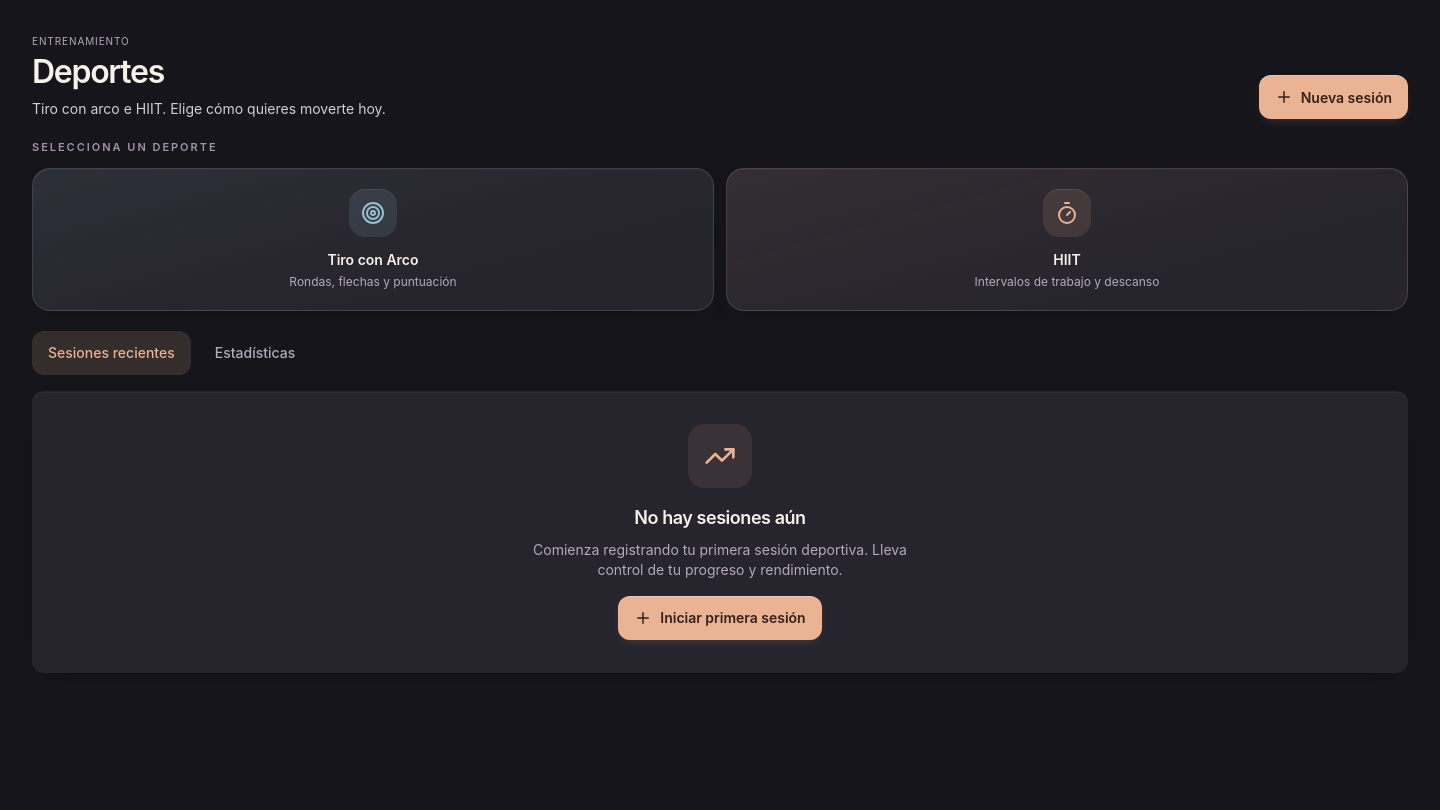
Scenario: SportsPage › opens the archery setup with an accessible dialog after choosing archery
Click the button with aria-label "Iniciar nueva sesión".
click(1333, 97)  # box x1=1259 y1=75 x2=1408 y2=119
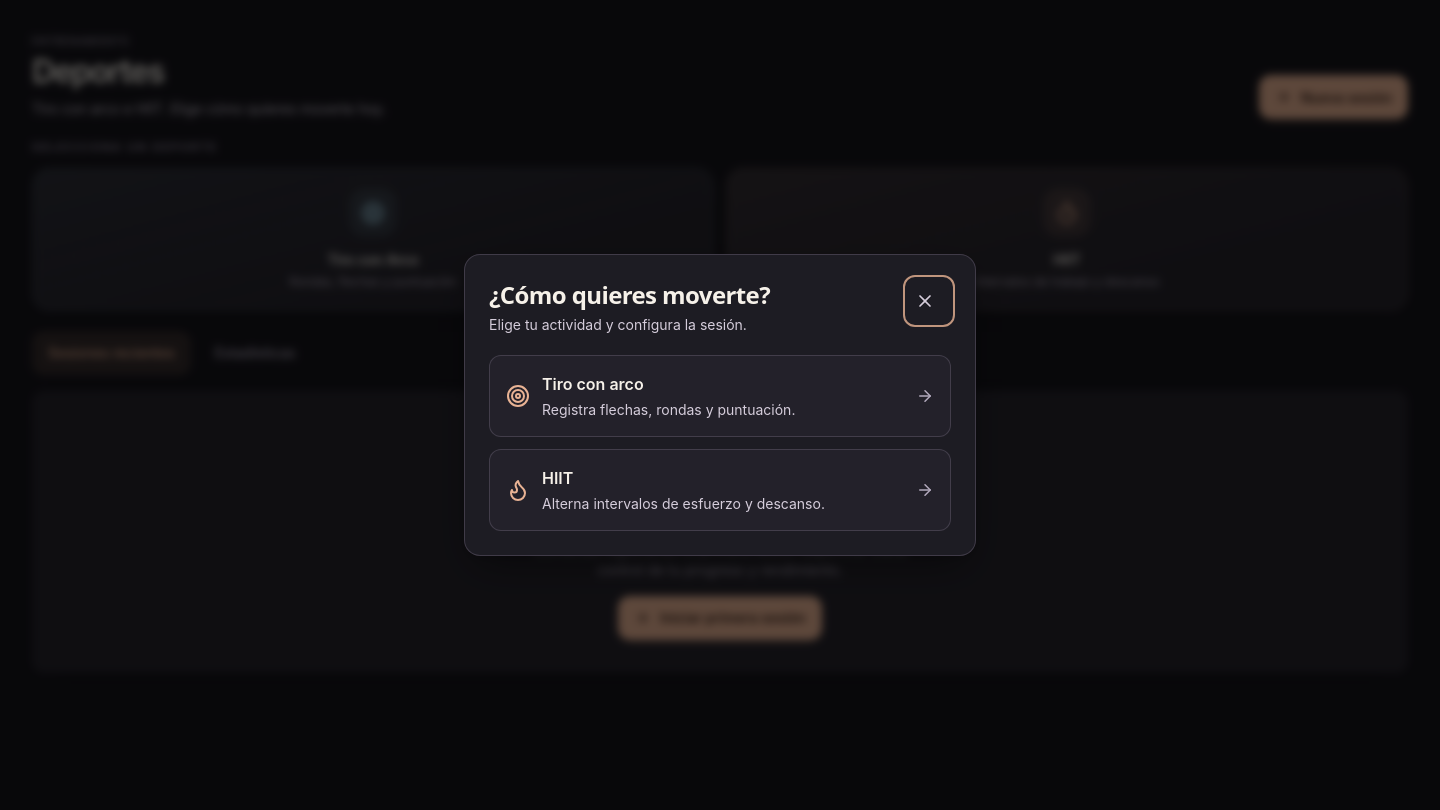
Click the button "Tiro con arco".
click(593, 384)  # box x1=489 y1=355 x2=951 y2=437
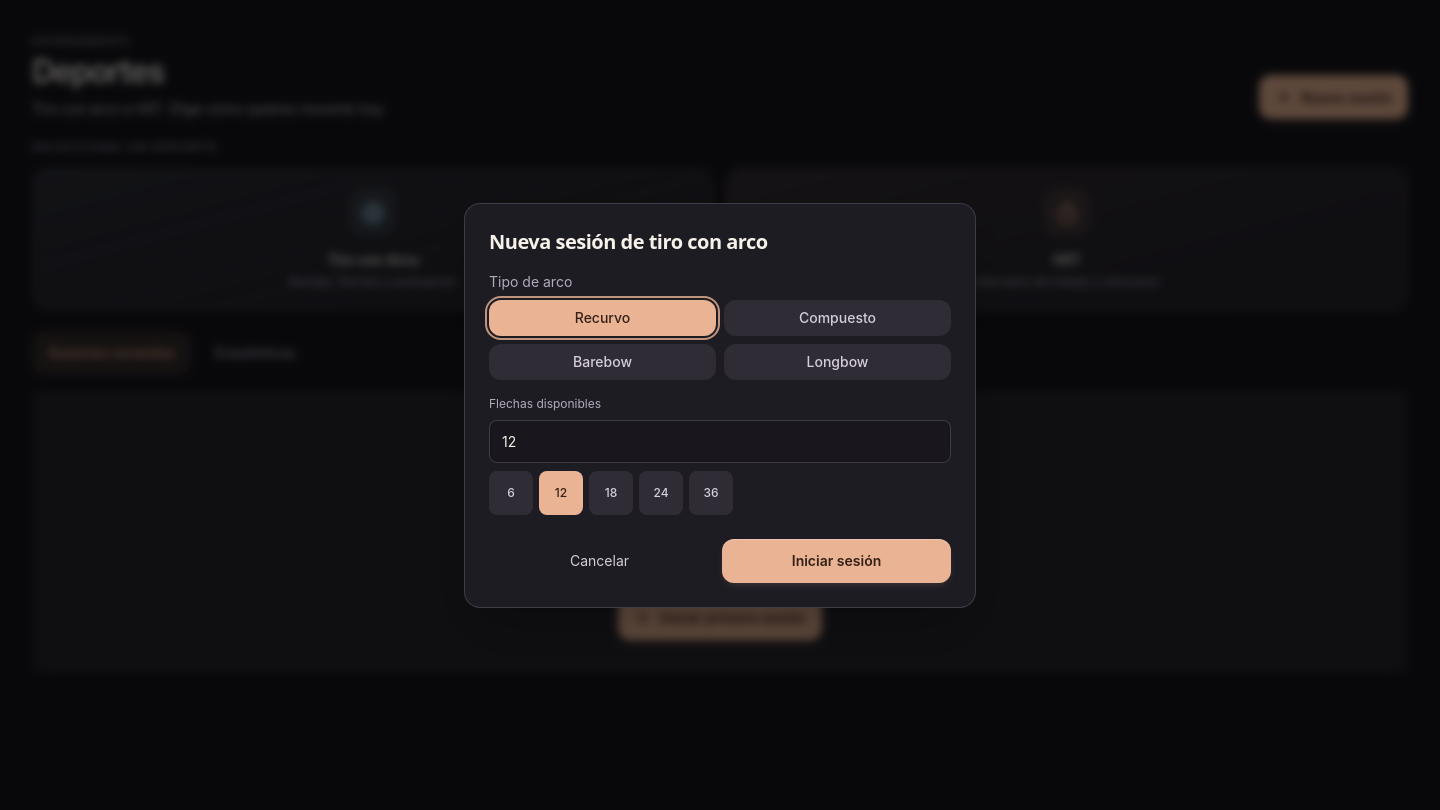
Result: the dialog "Nueva sesión de tiro con arco" is shown at x1=464 y1=202 x2=976 y2=608
Press Escape
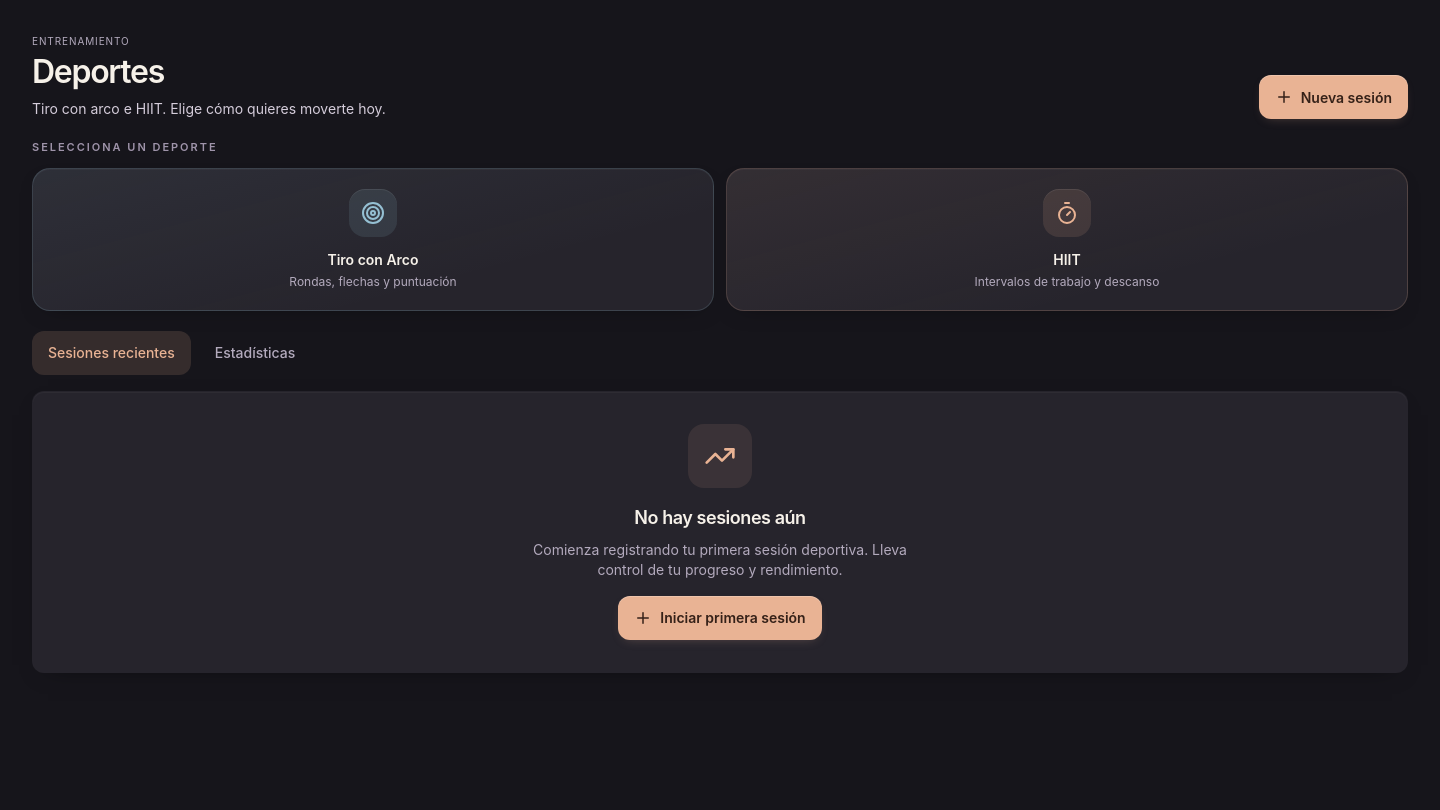
Result: the dialog is gone
